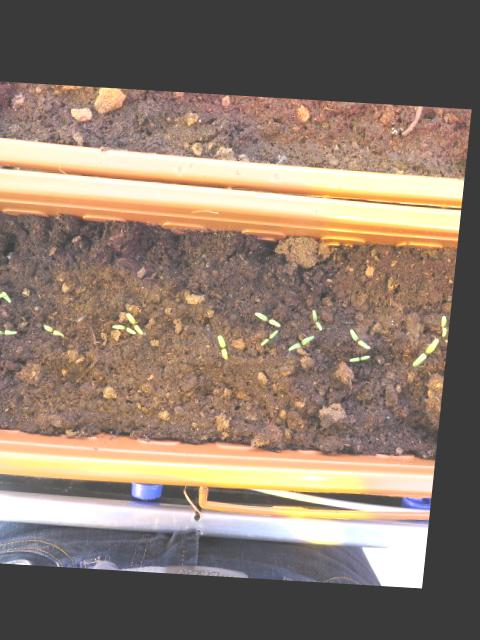crop: (346, 322, 380, 346), (290, 329, 327, 350), (217, 331, 243, 360), (310, 303, 336, 330), (43, 323, 77, 339), (348, 348, 385, 361), (0, 327, 29, 338)
